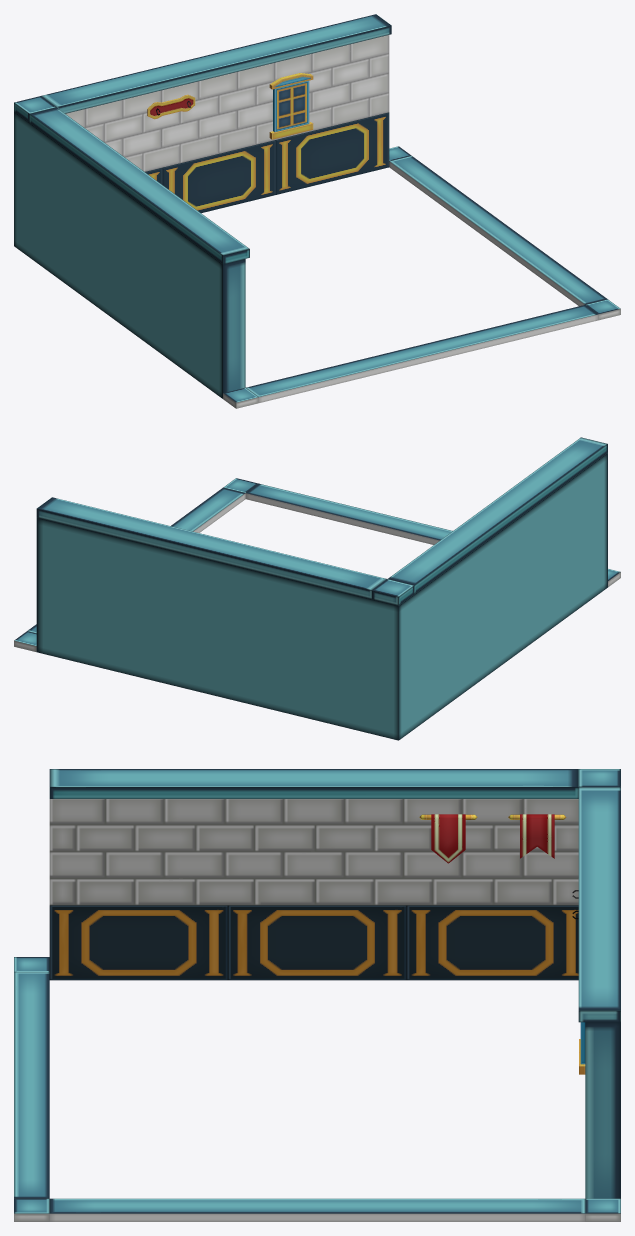
Rendered from Wall3.FBX.
3 views of the same model, one above another, from view 1: azimuth 30°, elevation 25°; view 2: azimuth 150°, elevation 25°; view 3: azimuth 270°, elevation 25° (orthographic). The views are drawn at different scales.
Parts seen in each view (by area): view 1: wall, Object142, WWI; view 2: wall; view 3: wall, Object159, Object160.
Boxes of the visible parts, x1,y1,x2,y2 form: wall: [14, 14, 620, 408]; Object142: [269, 73, 313, 139]; WWI: [147, 94, 195, 119]; wall: [14, 437, 620, 740]; wall: [14, 769, 620, 1221]; Object159: [419, 814, 477, 863]; Object160: [508, 814, 566, 858].
Bounding box in the file's own units: 17 × 6.07 × 17.
